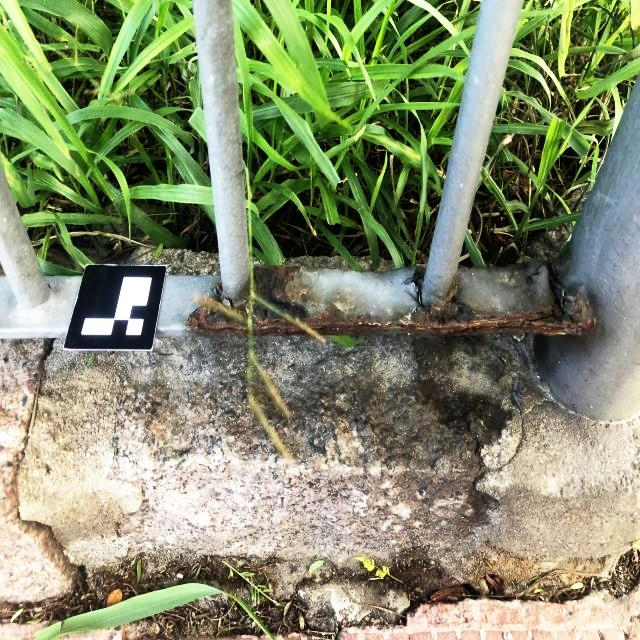Corrosion: (185, 252, 598, 338)
